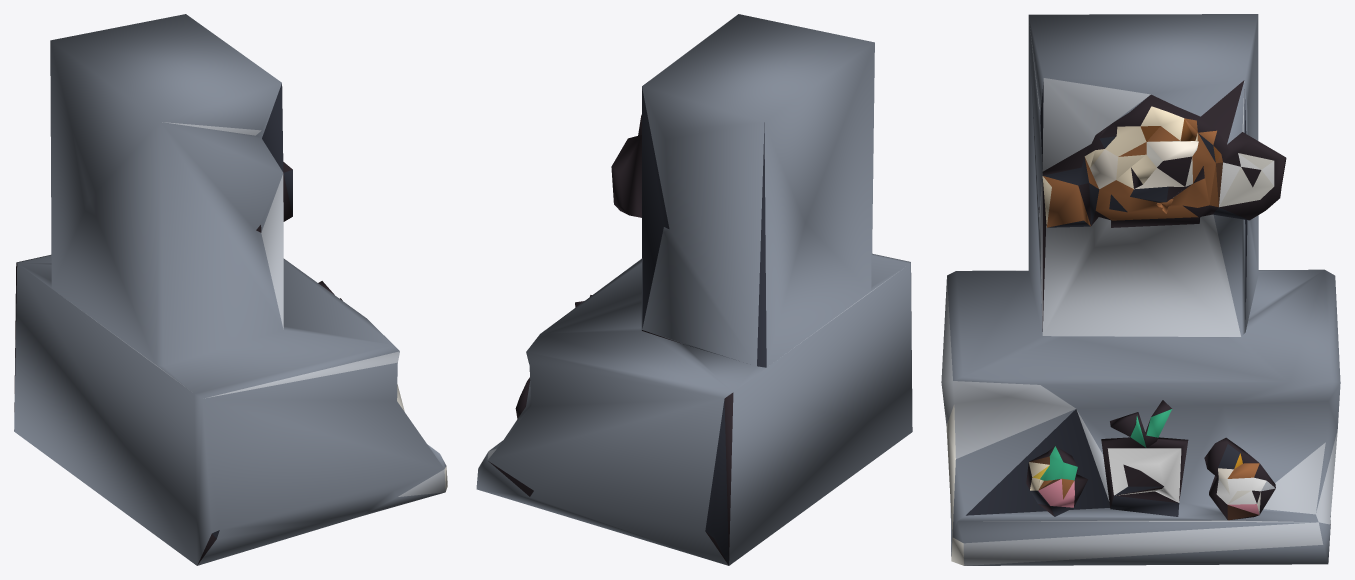
Rendered from SM_meter_box.glb.
The picture shows the model from 3 angles, left to right: view 1: azimuth 30°, elevation 25°; view 2: azimuth 150°, elevation 25°; view 3: azimuth 270°, elevation 25°; orthographic projection. The views are drawn at different scales.
Parts seen in each view (by area): view 1: SM_meter_box; view 2: SM_meter_box; view 3: SM_meter_box.
Boxes of the visible parts, x1,y1,x2,y2 form: SM_meter_box: (14, 14, 447, 565); SM_meter_box: (476, 14, 912, 565); SM_meter_box: (941, 14, 1340, 565).
Bounding box in the file's own units: 0.3214 × 0.5 × 0.4145.
Materials: 1 (1 with a texture image).
